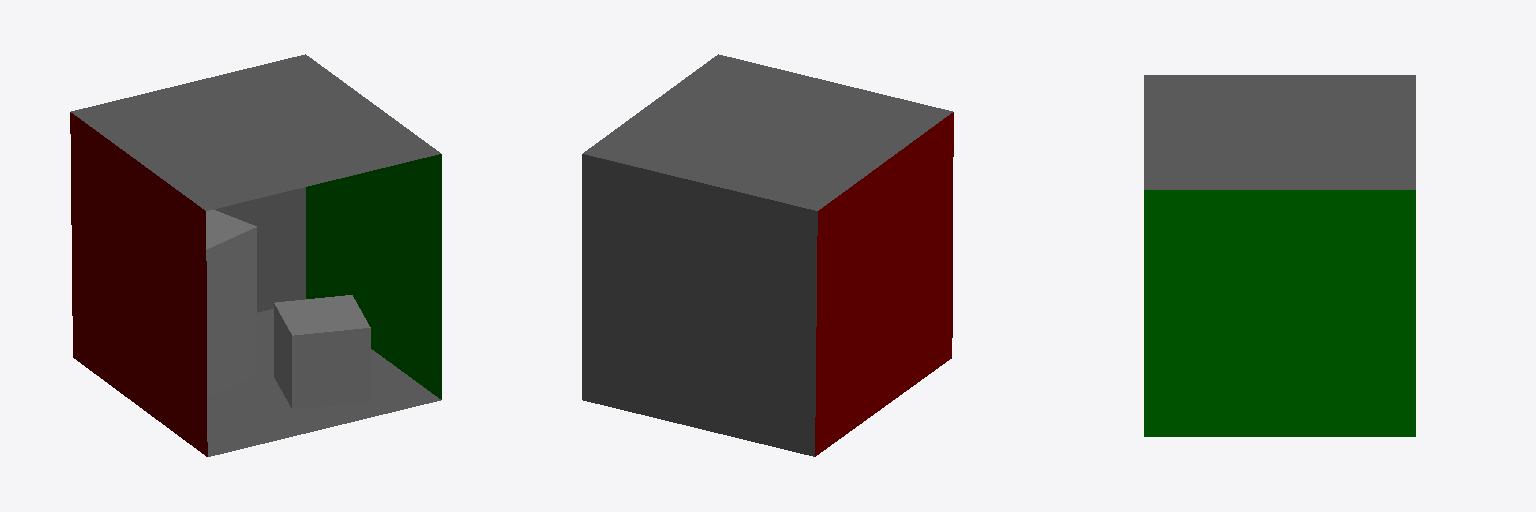
The model's file is cornell_box_normalized.obj.
3 views of the same model, side by side, from view 1: azimuth 30°, elevation 25°; view 2: azimuth 150°, elevation 25°; view 3: azimuth 270°, elevation 25° (orthographic).
Parts seen in each view (by area): view 1: cbox, cbox_red, cbox_green, small_box, large_box; view 2: cbox, cbox_red; view 3: cbox_green, cbox.
Boxes of the visible parts, box(x1,y1,x2,y2) form: cbox: box(71, 54, 440, 456); cbox_red: box(70, 112, 207, 456); cbox_green: box(306, 154, 441, 399); small_box: box(274, 295, 370, 409); large_box: box(206, 209, 256, 397); cbox: box(582, 54, 952, 456); cbox_red: box(815, 112, 953, 456); cbox_green: box(1144, 190, 1415, 436); cbox: box(1144, 75, 1415, 189).
Size of the model in its own units: 2 by 2 by 2.